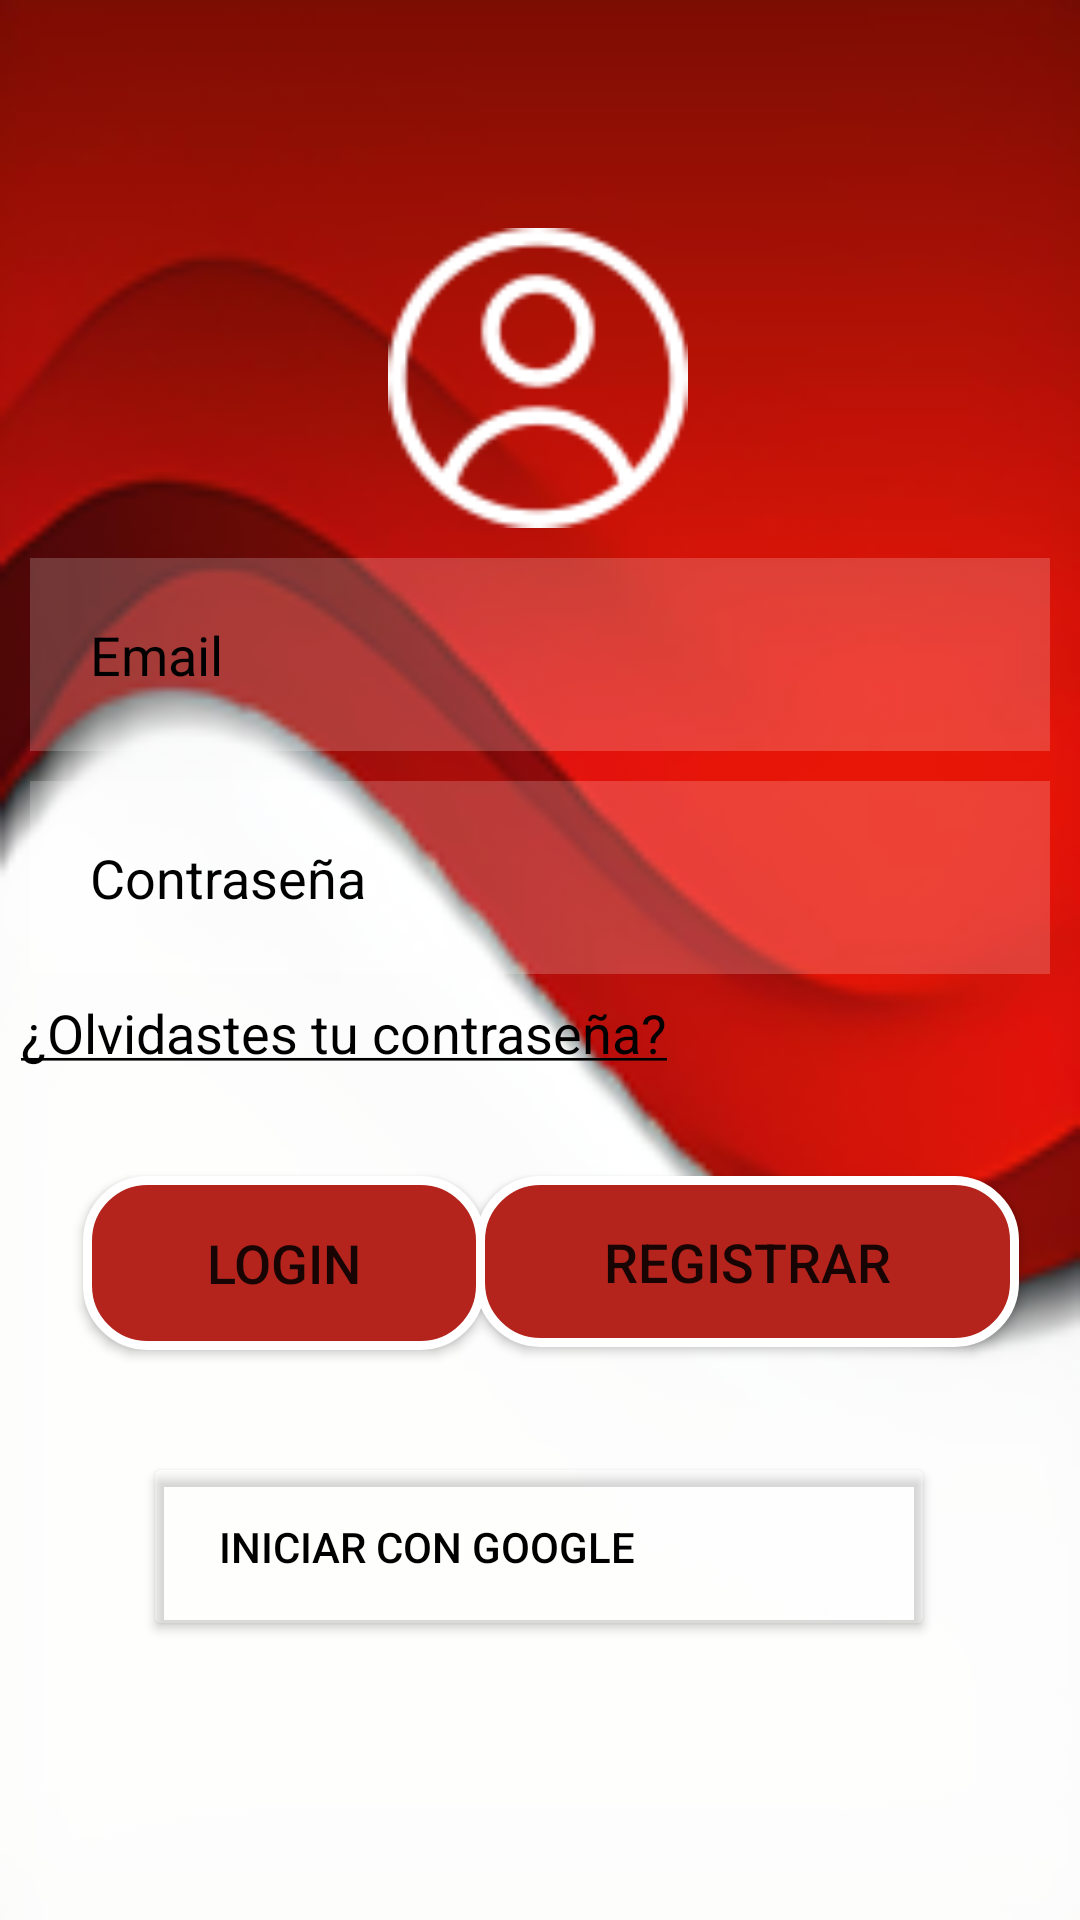

Point at icon controls on the screen. Image size 1080 × 1920, points as (x,y).
usuario login: (538,378)
